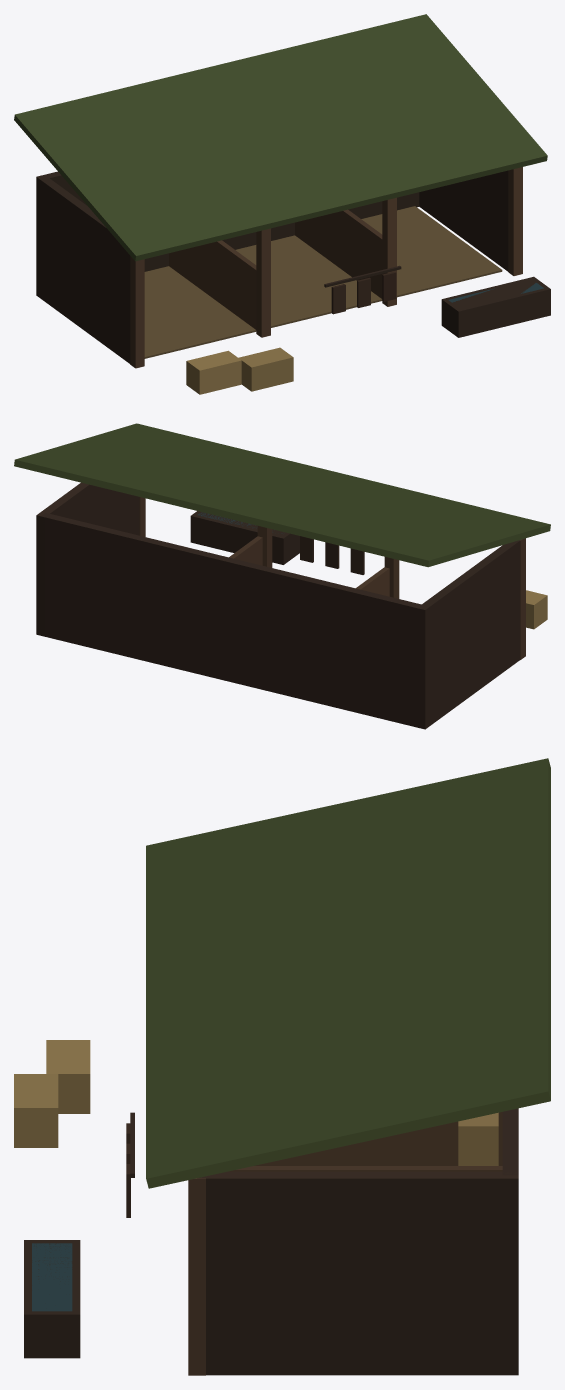
File: walk_rime_stable.glb
The picture shows the model from 3 angles, top to bottom: view 1: azimuth 30°, elevation 25°; view 2: azimuth 150°, elevation 25°; view 3: azimuth 270°, elevation 25°; orthographic projection. The views are drawn at different scales.
Visible parts, largest first — view 1: walk_rime_stable_roof, walk_rime_stable; view 2: walk_rime_stable, walk_rime_stable_roof; view 3: walk_rime_stable_roof, walk_rime_stable.
Part boxes in pixels (x1,y1,x2,y2): walk_rime_stable_roof: (14, 14, 547, 261); walk_rime_stable: (36, 167, 550, 394); walk_rime_stable: (36, 482, 547, 729); walk_rime_stable_roof: (14, 423, 550, 567); walk_rime_stable_roof: (146, 758, 550, 1188); walk_rime_stable: (14, 1040, 518, 1375).
Size of what is drawn, in the model's own units: 9.8 by 4.04 by 6.68.
Materials: 1 (1 with a texture image).
